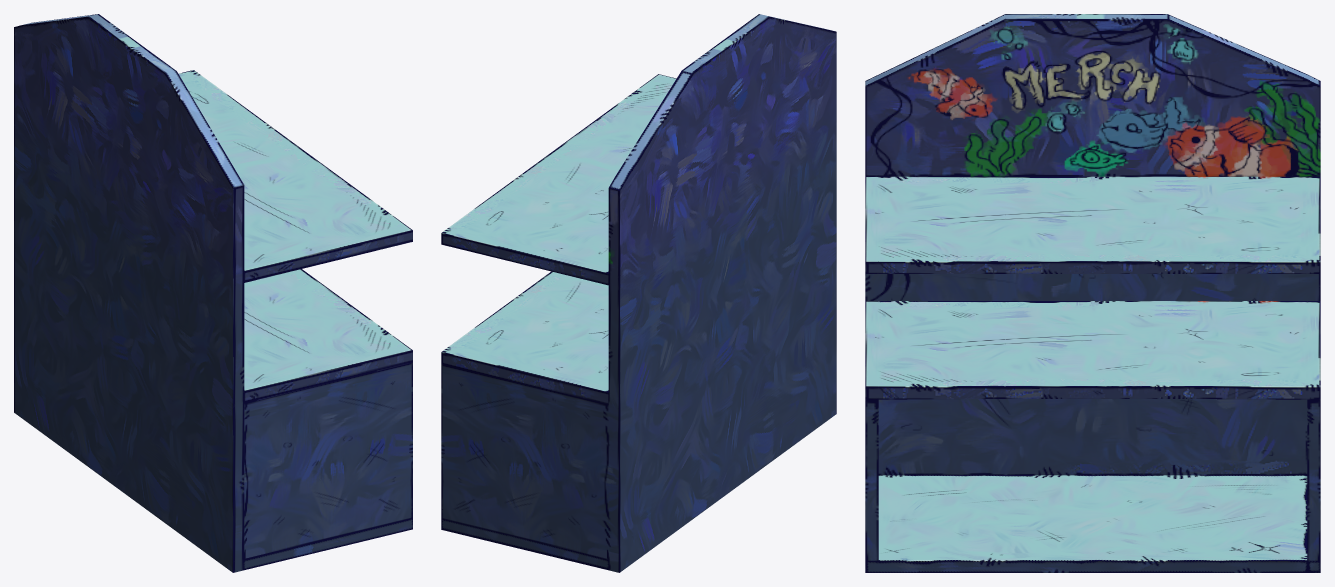
File: Complete_Shelf.fbx
The picture shows the model from 3 angles, left to right: view 1: azimuth 30°, elevation 25°; view 2: azimuth 150°, elevation 25°; view 3: azimuth 270°, elevation 25°; orthographic projection. The views are drawn at different scales.
Parts seen in each view (by area): view 1: Interacted_Shelf10; view 2: Interacted_Shelf10; view 3: Interacted_Shelf10.
Part boxes in pixels (x1,y1,x2,y2): Interacted_Shelf10: (14,14,412,572); Interacted_Shelf10: (441,14,836,572); Interacted_Shelf10: (865,14,1320,572).
Size of the model in its own units: 0.2441 by 0.584 by 0.515.
1 material, 1 textured.
